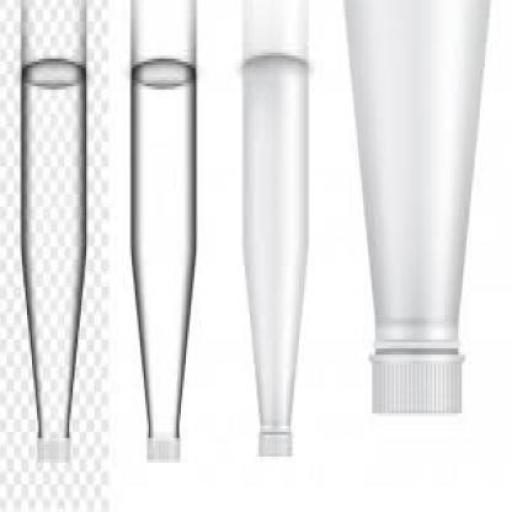glass: (346, 3, 492, 351), (132, 62, 198, 440), (22, 62, 88, 438), (245, 62, 311, 434)
plastic: (374, 355, 464, 423), (260, 425, 294, 460), (41, 441, 76, 466), (151, 438, 180, 465)
